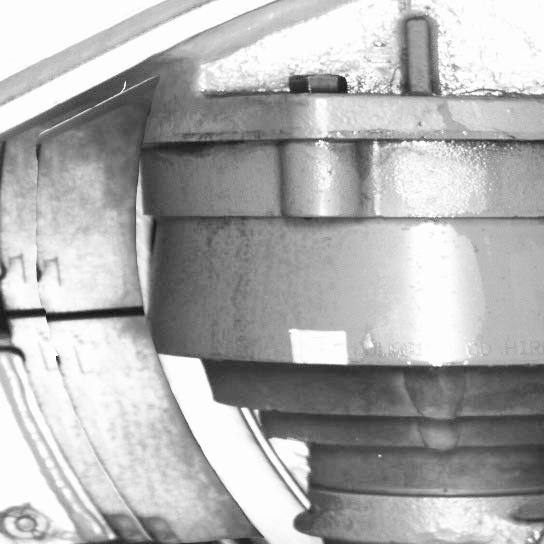ClosedKnifeSwitch: (4, 137, 279, 541)
